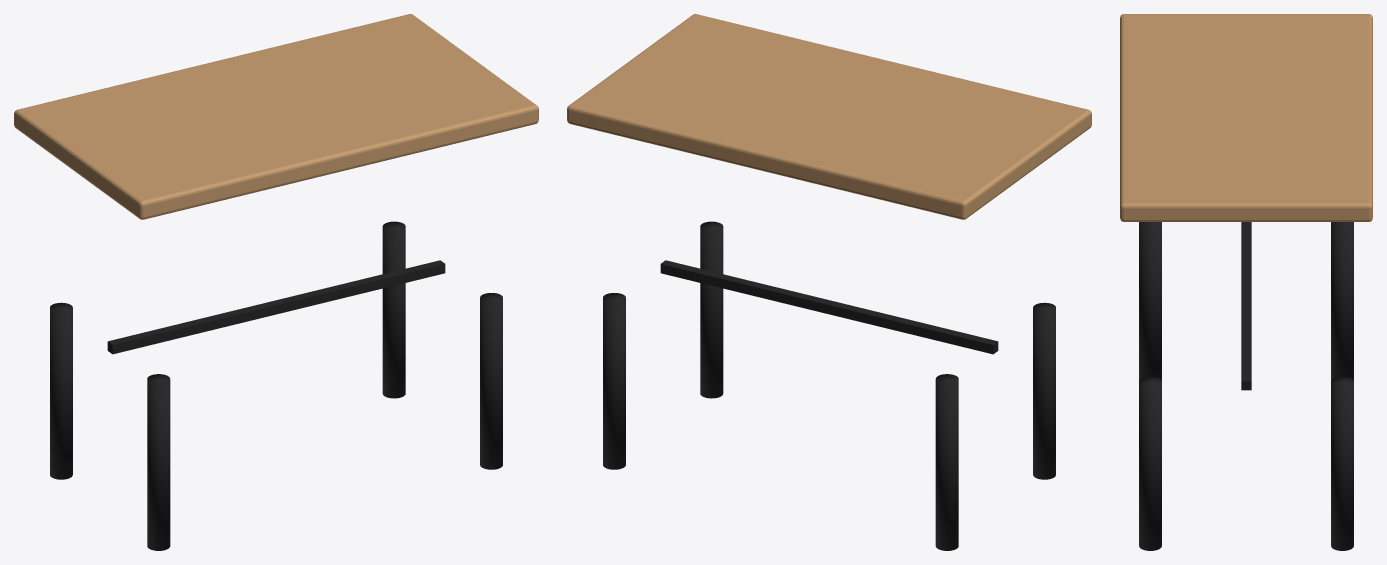
File: table_with_legs.glb
The picture shows the model from 3 angles, left to right: view 1: azimuth 30°, elevation 25°; view 2: azimuth 150°, elevation 25°; view 3: azimuth 270°, elevation 25°; orthographic projection.
Visible parts, largest first — view 1: tabletop, support_rail_x, leg_fl, leg_bl, leg_fr, leg_br; view 2: tabletop, support_rail_x, leg_bl, leg_fl, leg_br, leg_fr; view 3: tabletop, leg_br, leg_fr, leg_bl, leg_fl, support_rail_x.
Part boxes in pixels (x1,y1,x2,y2): tabletop: (14,14,538,219); support_rail_x: (107,260,445,354); leg_fl: (147,374,170,550); leg_bl: (50,302,72,479); leg_fr: (480,293,502,469); leg_br: (382,221,405,398); tabletop: (567,14,1091,219); support_rail_x: (660,260,998,354); leg_bl: (935,374,958,550); leg_fl: (1033,302,1055,479); leg_br: (603,293,625,469); leg_fr: (700,221,723,398); tabletop: (1120,14,1372,221); leg_br: (1331,376,1353,550); leg_fr: (1139,376,1161,550); leg_bl: (1331,222,1353,380); leg_fl: (1139,222,1161,380); support_rail_x: (1241,222,1251,390).
Bounding box in the file's own units: 1.8 × 1.56 × 1.
